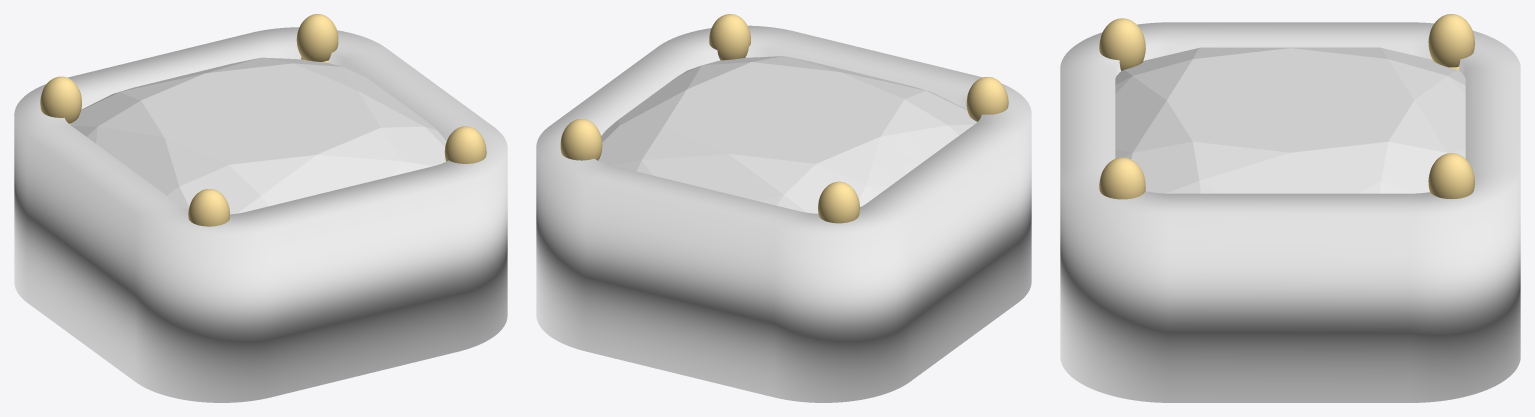
File: cushion.glb
3 views of the same model, side by side, from view 1: azimuth 30°, elevation 25°; view 2: azimuth 150°, elevation 25°; view 3: azimuth 270°, elevation 25° (orthographic). The views are drawn at different scales.
Visible parts, largest first — view 1: Cube.001, all-diamonds.1046; view 2: Cube.001, all-diamonds.1046; view 3: Cube.001, all-diamonds.1046.
Boxes of the visible parts, <box> form: Cube.001: <box>14,14,507,402</box>; all-diamonds.1046: <box>70,57,446,214</box>; Cube.001: <box>536,14,1031,402</box>; all-diamonds.1046: <box>598,56,976,213</box>; Cube.001: <box>1060,14,1520,402</box>; all-diamonds.1046: <box>1115,47,1465,193</box>.
Size of the model in its own units: 2.67 by 1.43 by 2.67.
